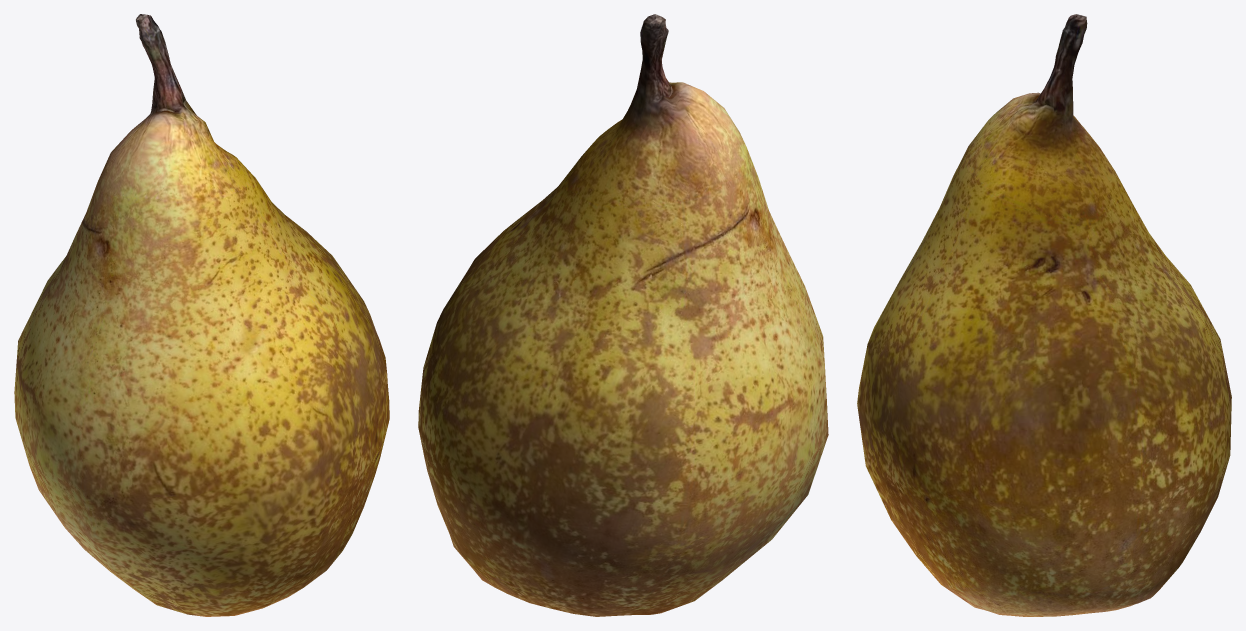
3 renders of one model, left to right at view 1: azimuth 30°, elevation 25°; view 2: azimuth 150°, elevation 25°; view 3: azimuth 270°, elevation 25°, orthographic. The views are drawn at different scales.
Visible parts, largest first — view 1: pear; view 2: pear; view 3: pear.
Part boxes in pixels (bbox=[...]): pear: bbox=[14, 14, 389, 616]; pear: bbox=[418, 14, 828, 616]; pear: bbox=[857, 14, 1231, 616].
Size of the model in its own units: 0.0694 by 0.0691 by 0.1157.
1 material, 1 textured.
